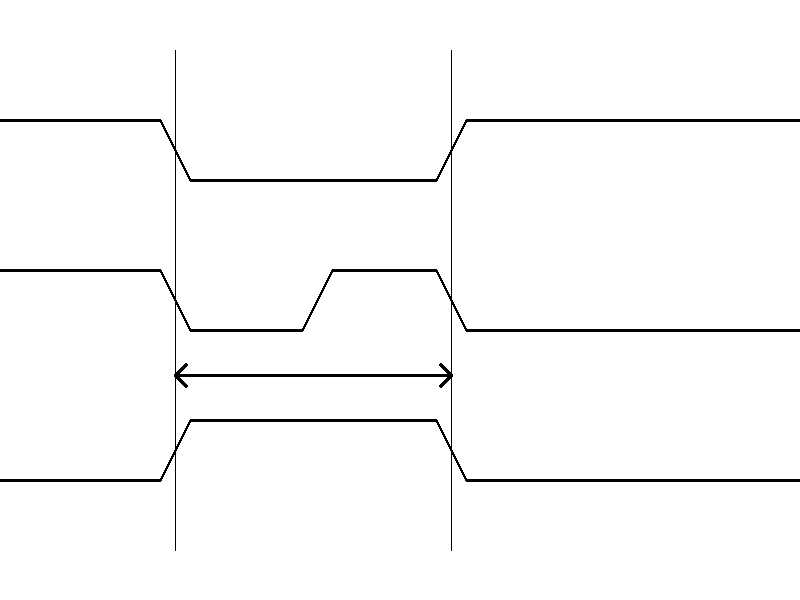double_arrow: (175, 360, 451, 390)
